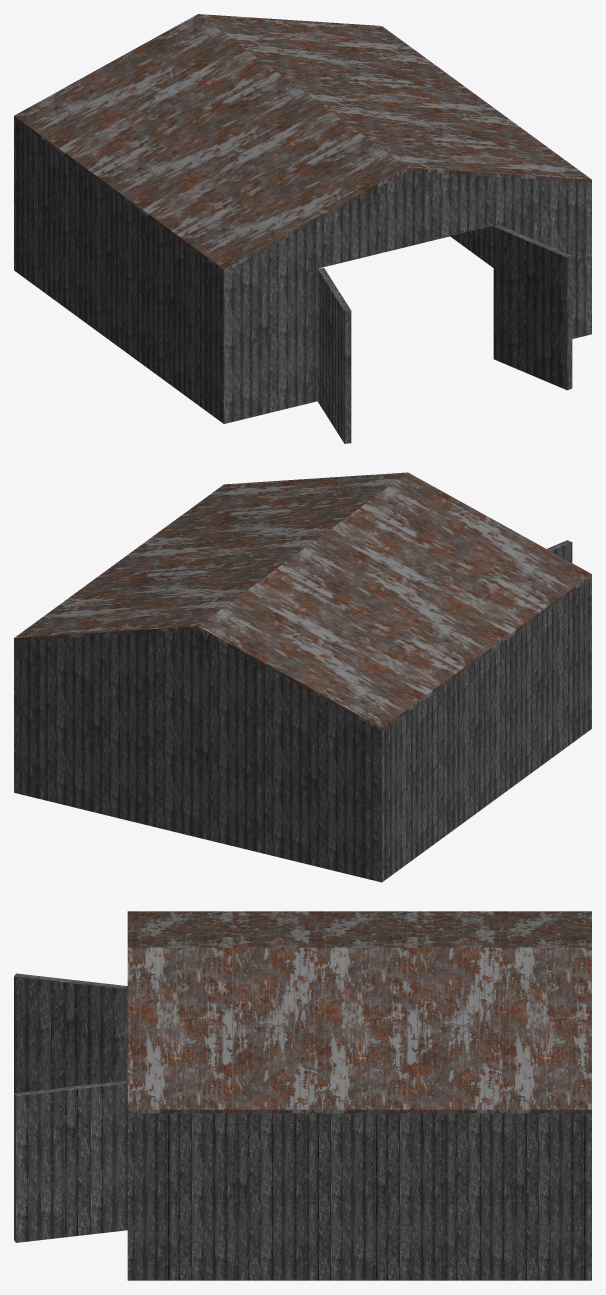
File: barn.glb
3 renders of one model, top to bottom at view 1: azimuth 30°, elevation 25°; view 2: azimuth 150°, elevation 25°; view 3: azimuth 270°, elevation 25°, orthographic. The views are drawn at different scales.
Parts seen in each view (by area): view 1: Mesh5_RG_Albedo_0, Mesh6_Planks_004_Old_0, Mesh3_Planks_004_Old_0, Mesh14_Planks_004_Old_0, Mesh15_Planks_004_Old_0, Mesh8_Planks_004_Old_0, Mesh7_Planks_004_Old_0; view 2: Mesh5_RG_Albedo_0, Mesh2_Planks_004_Old_0, Mesh6_Planks_004_Old_0, Mesh12_Planks_004_Old_0, Mesh7_Planks_004_Old_0; view 3: Mesh5_RG_Albedo_0, Mesh7_Planks_004_Old_0, Mesh14_Planks_004_Old_0, Mesh8_Planks_004_Old_0.
Boxes of the visible parts, box(x1,y1,x2,y2) form: Mesh5_RG_Albedo_0: box(14, 14, 591, 272); Mesh6_Planks_004_Old_0: box(14, 119, 229, 423); Mesh3_Planks_004_Old_0: box(230, 184, 585, 422); Mesh14_Planks_004_Old_0: box(493, 224, 572, 390); Mesh15_Planks_004_Old_0: box(224, 171, 591, 272); Mesh8_Planks_004_Old_0: box(317, 268, 351, 443); Mesh7_Planks_004_Old_0: box(450, 183, 591, 335); Mesh5_RG_Albedo_0: box(14, 472, 591, 730); Mesh2_Planks_004_Old_0: box(20, 643, 375, 880); Mesh6_Planks_004_Old_0: box(376, 577, 591, 882); Mesh12_Planks_004_Old_0: box(15, 629, 381, 730); Mesh7_Planks_004_Old_0: box(14, 641, 19, 793); Mesh5_RG_Albedo_0: box(127, 911, 591, 1113); Mesh7_Planks_004_Old_0: box(127, 1113, 591, 1280); Mesh14_Planks_004_Old_0: box(14, 1080, 127, 1242); Mesh8_Planks_004_Old_0: box(14, 973, 127, 1093).
Bounding box in the file's own units: 2.44 × 1.34 × 3.
Materials: 2 (2 with a texture image).
